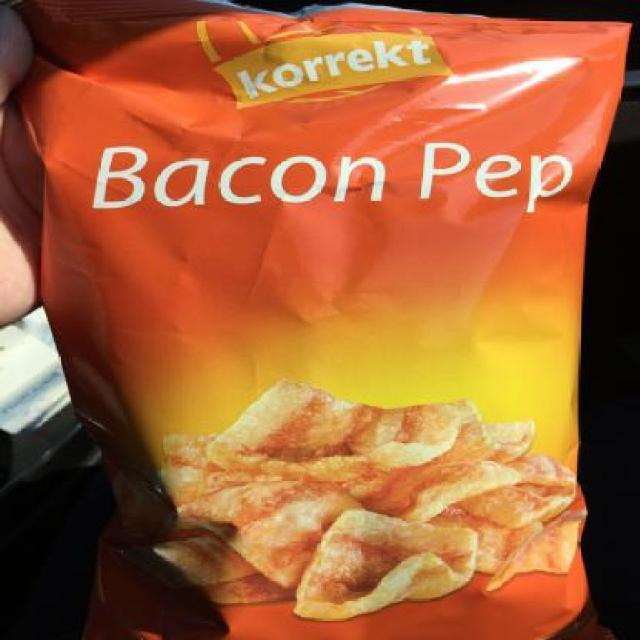Chips: (39, 11, 595, 634)
